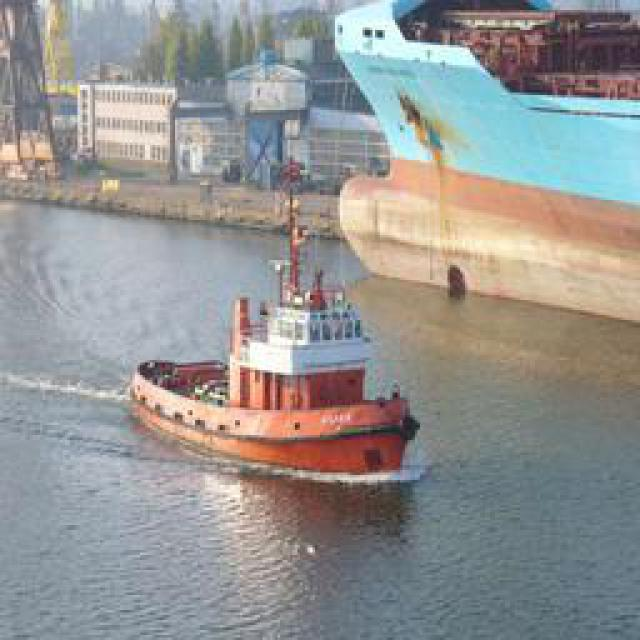Ship: (136, 57, 426, 477)
